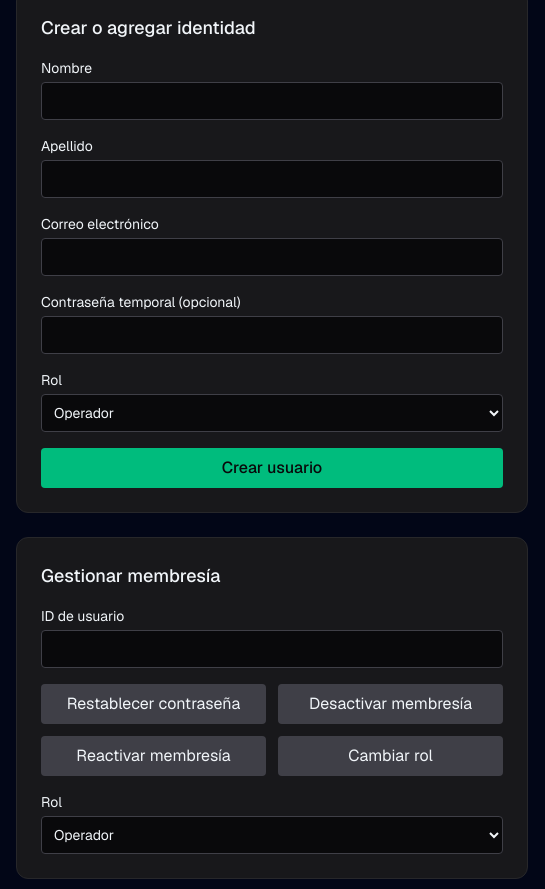
Test: AdminUserForm › reactivates membership through delivery and reports its result
The width and height of the screenshot is (545, 889).
Type "user-1" into the field labelled "ID de usuario" at (272,649), box [41, 630, 503, 668]
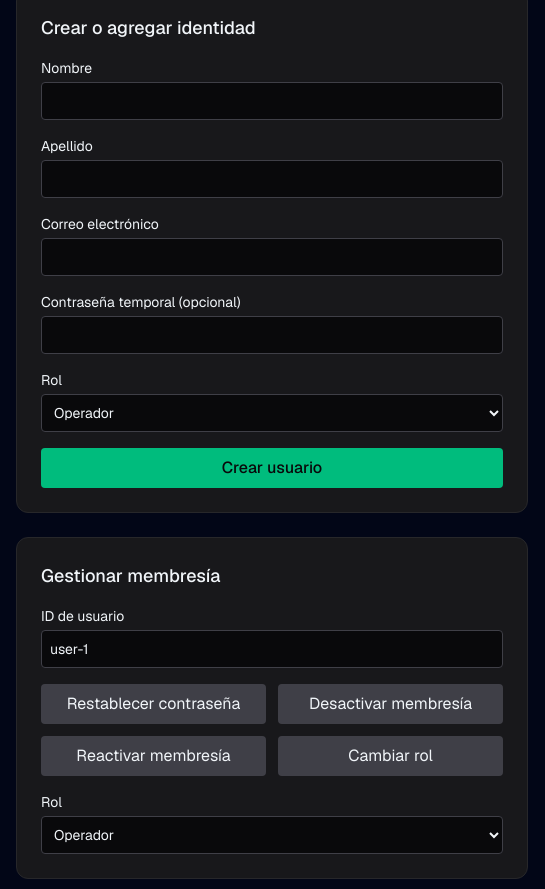
Select "Administrador" in the dropdown labelled "Rol" below "ID de usuario" at (272,835), box [41, 816, 503, 854]
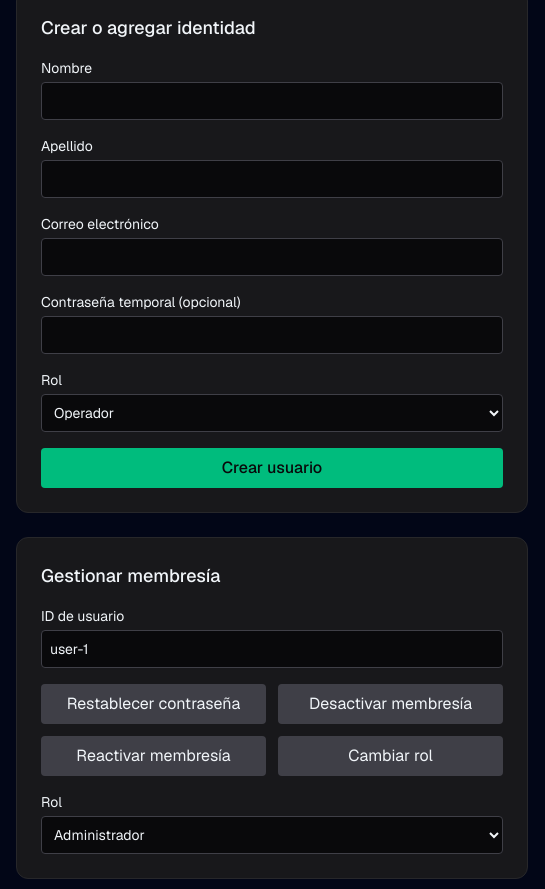
Click the button "Reactivar membresía" at (154,756), box [41, 736, 266, 776]
(page scrolled)
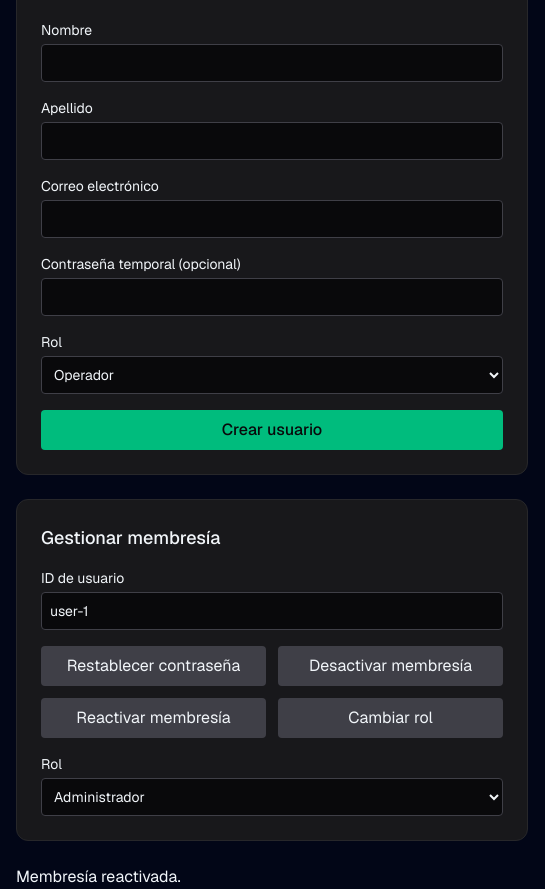
Expected: the message reads "Membresía reactivada.", [16, 866, 181, 887]
